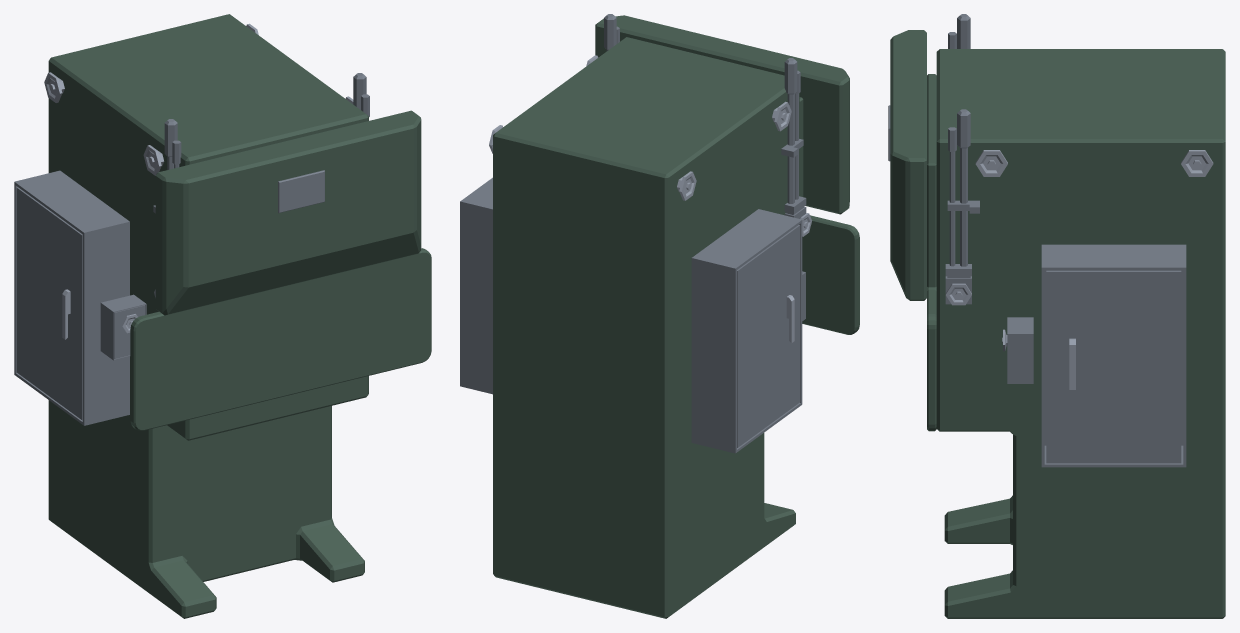
3 renders of one model, left to right at view 1: azimuth 30°, elevation 25°; view 2: azimuth 150°, elevation 25°; view 3: azimuth 270°, elevation 25°, orthographic. The views are drawn at different scales.
Parts seen in each view (by area): view 1: Cube.015; view 2: Cube.015; view 3: Cube.015.
Boxes of the visible parts, x1=… form: Cube.015: x1=14, y1=14, x2=431, y2=618; Cube.015: x1=460, y1=14, x2=859, y2=618; Cube.015: x1=888, y1=14, x2=1225, y2=618.
Bounding box in the file's own units: 2 × 3.17 × 1.9.
